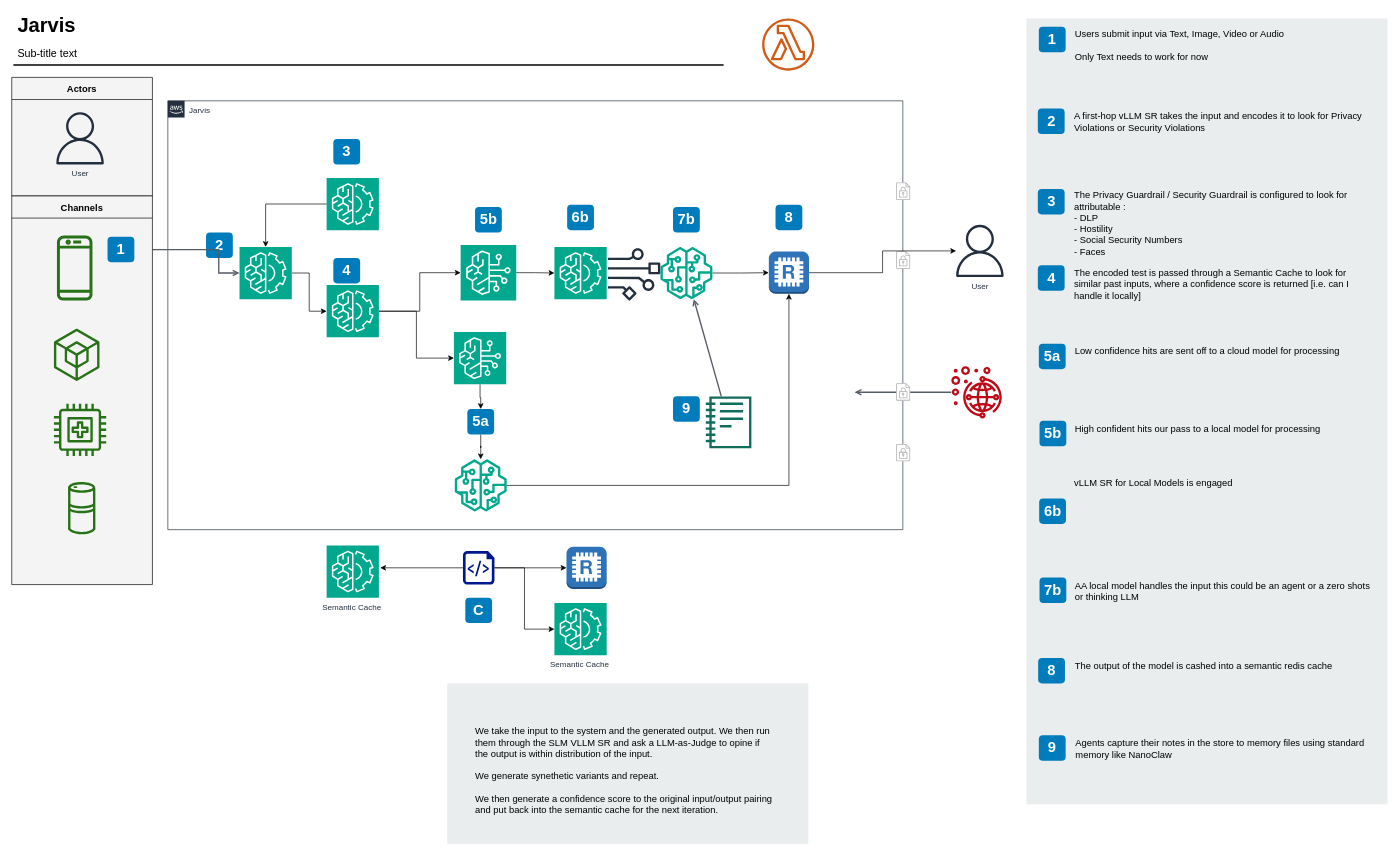
This 1399x856 diagram has some shape labels left out. The centre of each missing label's shape, as x and y in pixels:
(Local Models): point (686, 273)
API: point (76, 354)
Cloud Endpoint: point (480, 485)
Execute Model: point (788, 44)
Matched, HIgh-Confidence: point (488, 272)
Matched, Low-Confidence: point (479, 357)
Mobile / Web: point (74, 267)
PC: point (81, 508)
Privacy Guard: point (352, 203)
Related "Casual" Data: point (976, 392)
Research: point (728, 422)
Semantic Cache (Input): point (352, 310)
vLMM SR: point (265, 272)
vLMM SR (Local Model Router): point (580, 272)
Wearables: point (80, 429)
